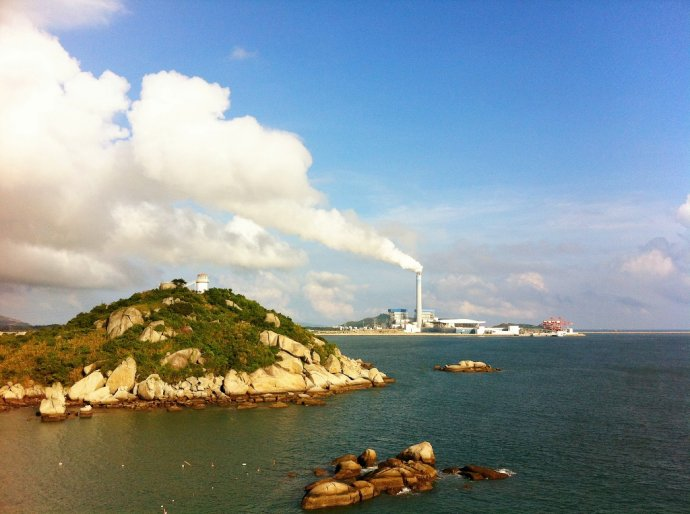dust: (295, 202, 429, 279)
